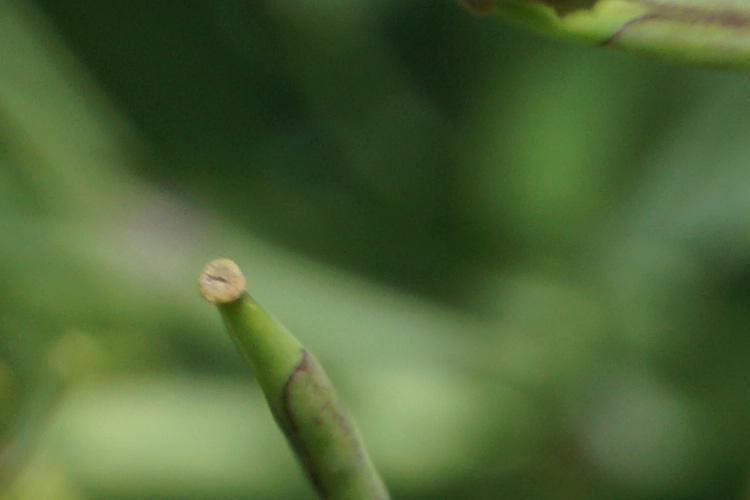pod: (179, 250, 389, 500)
